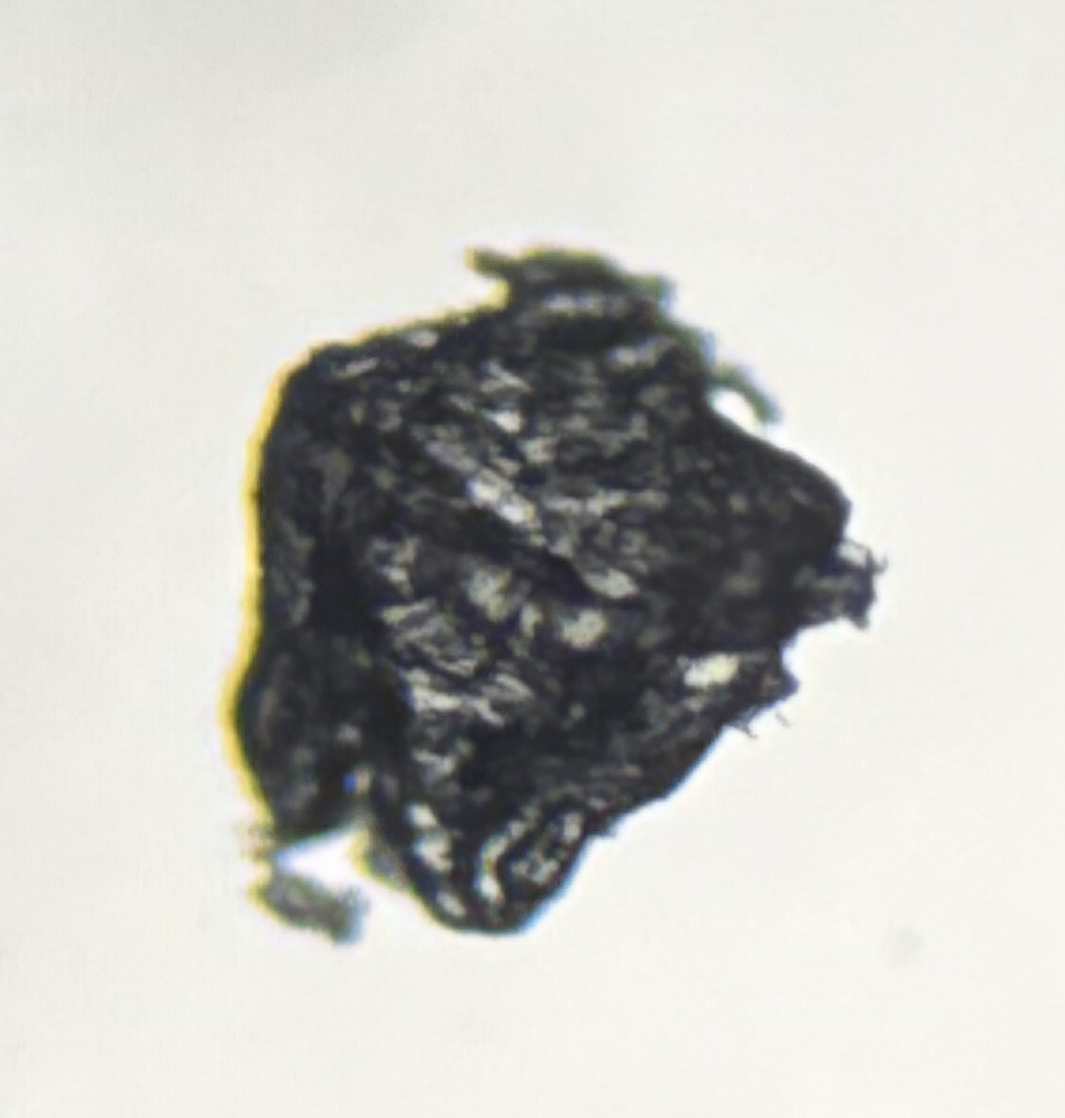microplastic: (231, 245, 890, 945)
